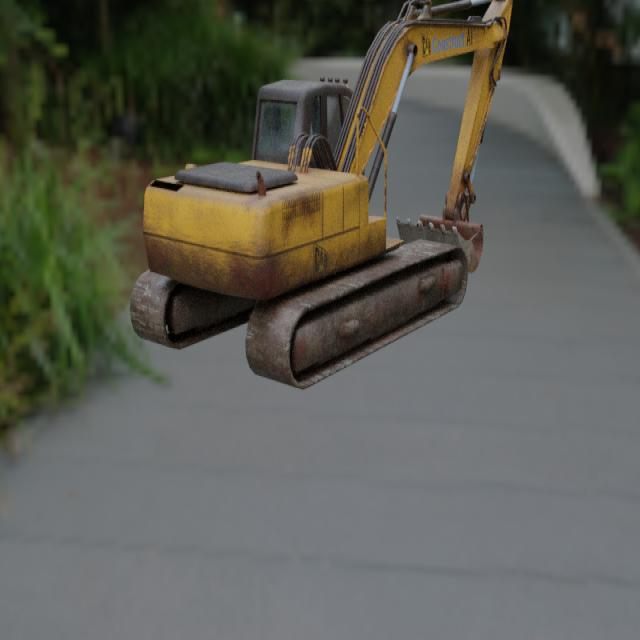excavator: (129, 0, 513, 391)
